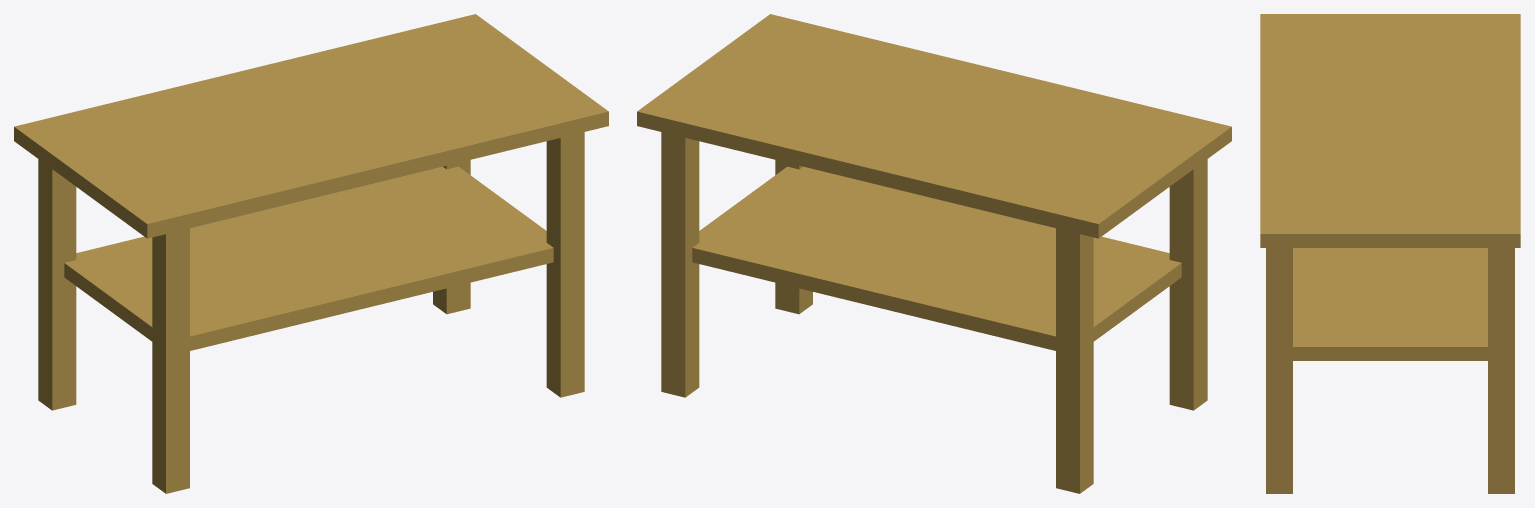
File: BasicSmallTable1.fbx
3 views of the same model, side by side, from view 1: azimuth 30°, elevation 25°; view 2: azimuth 150°, elevation 25°; view 3: azimuth 270°, elevation 25° (orthographic). The views are drawn at different scales.
Parts seen in each view (by area): view 1: Table; view 2: Table; view 3: Table.
Boxes of the visible parts, x1=… form: Table: x1=14, y1=14, x2=608, y2=493; Table: x1=637, y1=14, x2=1231, y2=493; Table: x1=1260, y1=14, x2=1520, y2=493.
Bounding box in the file's own units: 176 × 201 × 351.
